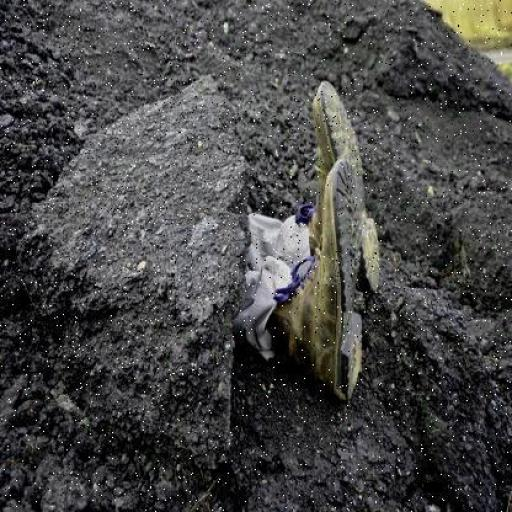safety_shoe: (279, 167, 363, 397), (311, 92, 384, 288)
